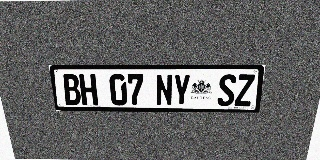0: (109, 74, 127, 105)
7: (126, 74, 144, 105)
B: (61, 74, 82, 105)
H: (79, 74, 98, 105)
N: (156, 74, 173, 106)
S: (217, 74, 237, 106)
Y: (173, 74, 190, 106)
Z: (234, 74, 255, 106)
